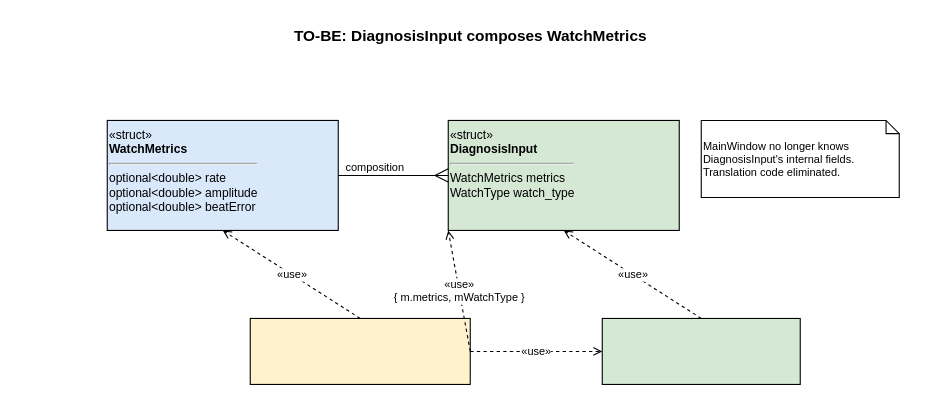
Image size: 939x404. Some labels were removed from this diagram. Each missing label, with the centre of its shape:
"MainWindow ::DisplayResults()" belongs at [359,350].
"WatchDiagnostics ::Evaluate()" belongs at [700,350].
